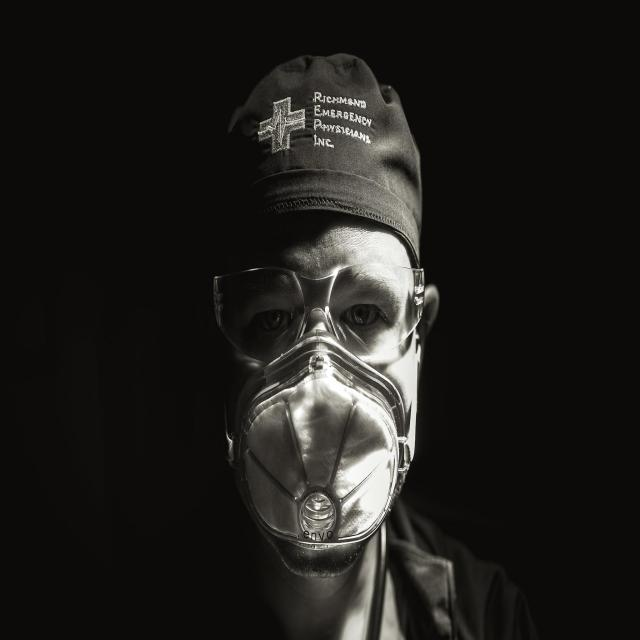Mask: (235, 337, 411, 577)
